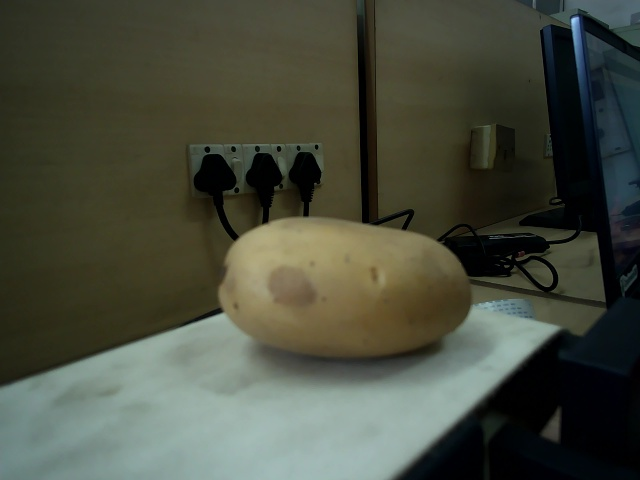Potato: (217, 215, 476, 364)
